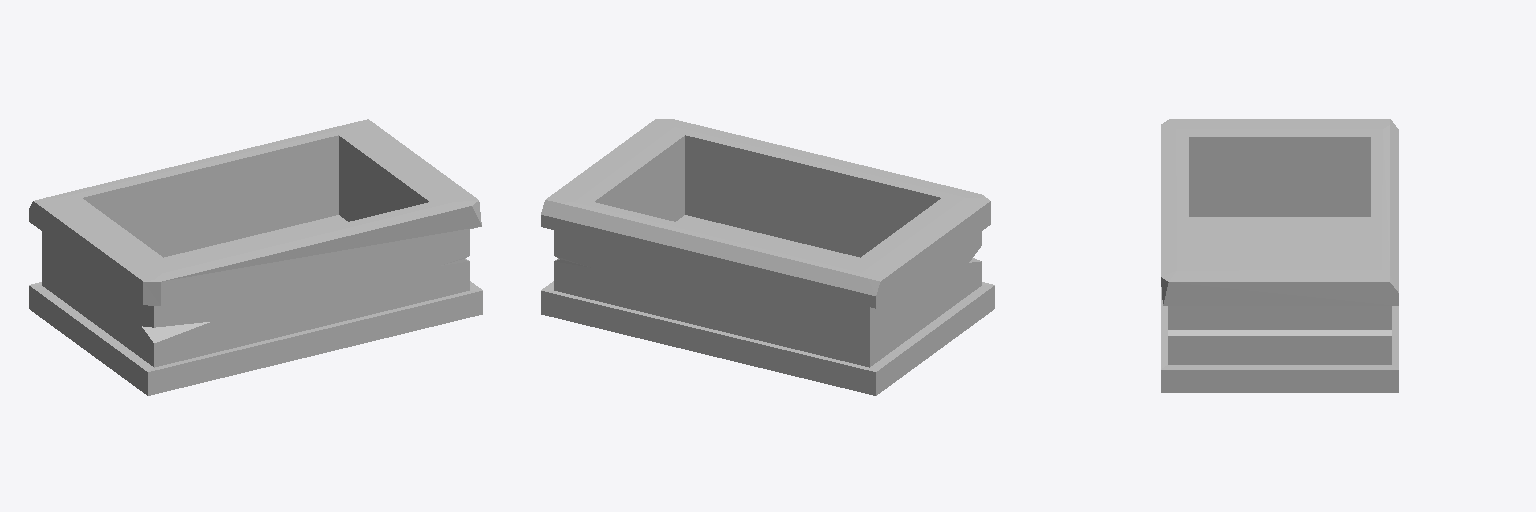
The model's file is misc010.obj.
3 views of the same model, side by side, from view 1: azimuth 30°, elevation 25°; view 2: azimuth 150°, elevation 25°; view 3: azimuth 270°, elevation 25° (orthographic).
Parts seen in each view (by area): view 1: misc010; view 2: misc010; view 3: misc010.
Boxes of the visible parts, x1=… form: misc010: x1=29, y1=119, x2=482, y2=395; misc010: x1=541, y1=119, x2=994, y2=395; misc010: x1=1161, y1=119, x2=1398, y2=392.
Size of the model in its own units: 0.0167 by 0.0053 by 0.0103.